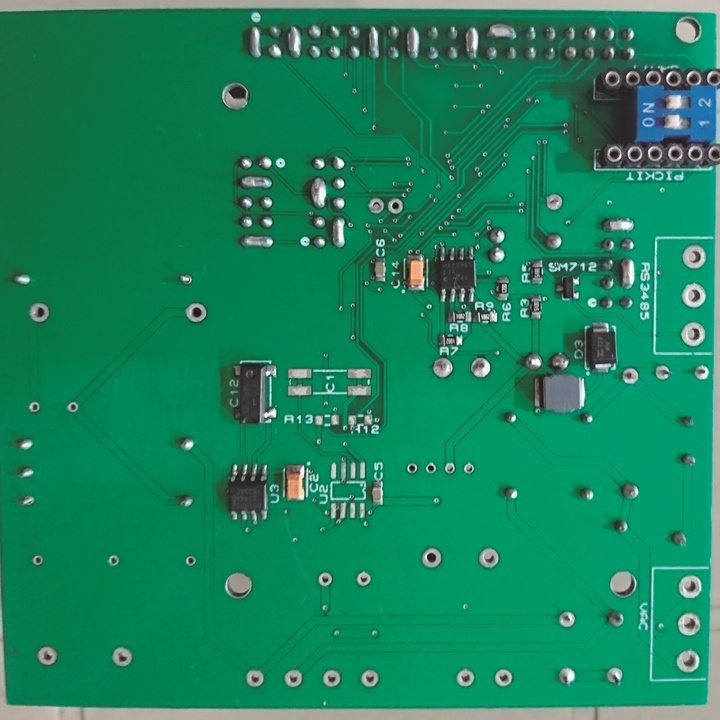F: (681, 282, 709, 311), (676, 572, 704, 600), (676, 611, 703, 640), (680, 243, 707, 270), (679, 321, 705, 348), (428, 355, 453, 382), (476, 544, 500, 572), (110, 642, 133, 670), (26, 302, 52, 326), (184, 303, 210, 326), (355, 666, 381, 689), (33, 644, 59, 666), (421, 545, 442, 572), (245, 666, 269, 689), (319, 666, 343, 689), (281, 667, 306, 689), (454, 665, 477, 688), (674, 649, 699, 670), (467, 357, 490, 379), (490, 667, 513, 689), (558, 609, 579, 632), (544, 190, 564, 213), (603, 664, 625, 684), (558, 665, 574, 691), (620, 367, 641, 386), (652, 363, 672, 382), (691, 363, 709, 383), (353, 569, 371, 589), (315, 570, 333, 588), (367, 198, 385, 215), (387, 198, 404, 215), (29, 552, 46, 569), (178, 270, 193, 289), (26, 398, 42, 415), (105, 553, 122, 569), (64, 398, 79, 416), (403, 462, 419, 478), (19, 494, 36, 509), (182, 554, 196, 569), (441, 461, 456, 475), (461, 460, 474, 475), (425, 461, 436, 477)
P: (484, 20, 521, 43), (462, 23, 479, 63), (246, 23, 264, 60), (237, 175, 273, 193), (404, 24, 421, 62), (620, 255, 637, 293), (309, 177, 327, 212), (600, 218, 636, 235), (286, 24, 301, 62), (239, 234, 276, 249), (330, 217, 346, 249), (367, 22, 379, 60)
